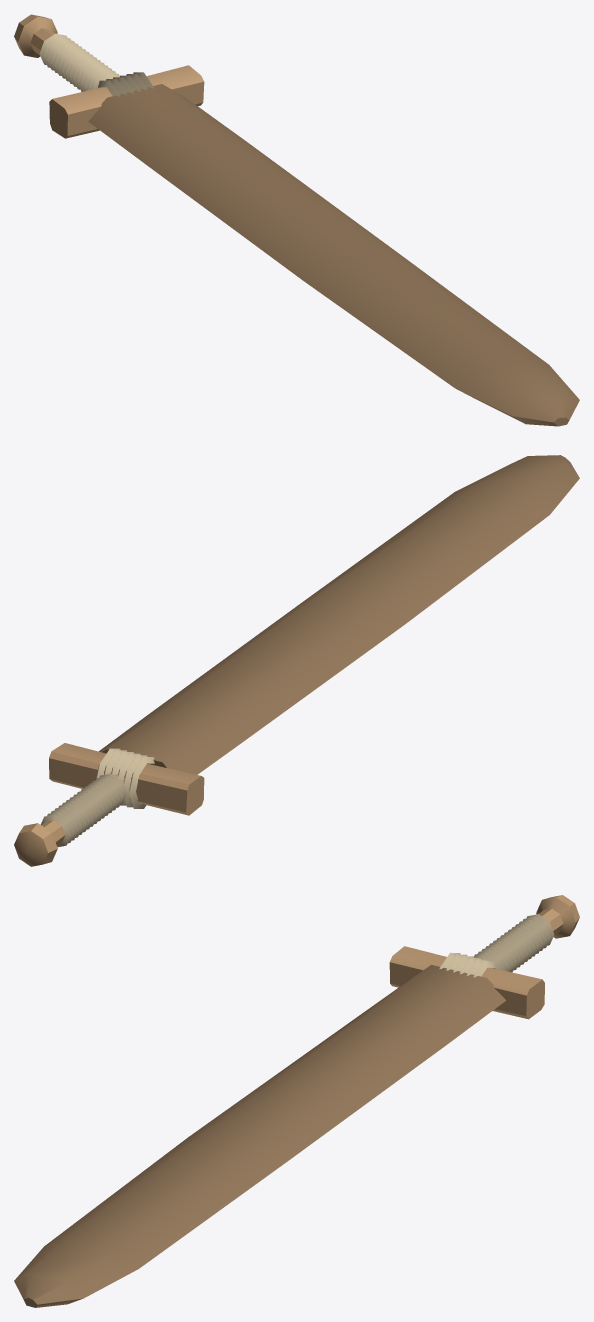
Rendered from WoodSword.fbx.
3 views of the same model, one above another, from view 1: azimuth 30°, elevation 25°; view 2: azimuth 150°, elevation 25°; view 3: azimuth 330°, elevation 25° (orthographic).
Visible parts, largest first — view 1: WoodSword; view 2: WoodSword; view 3: WoodSword.
Part boxes in pixels (x1,y1,x2,y2): WoodSword: [14, 14, 579, 426]; WoodSword: [14, 455, 579, 866]; WoodSword: [14, 895, 579, 1307].
Bounding box in the file's own units: 0.4031 × 0.146 × 2.72.
